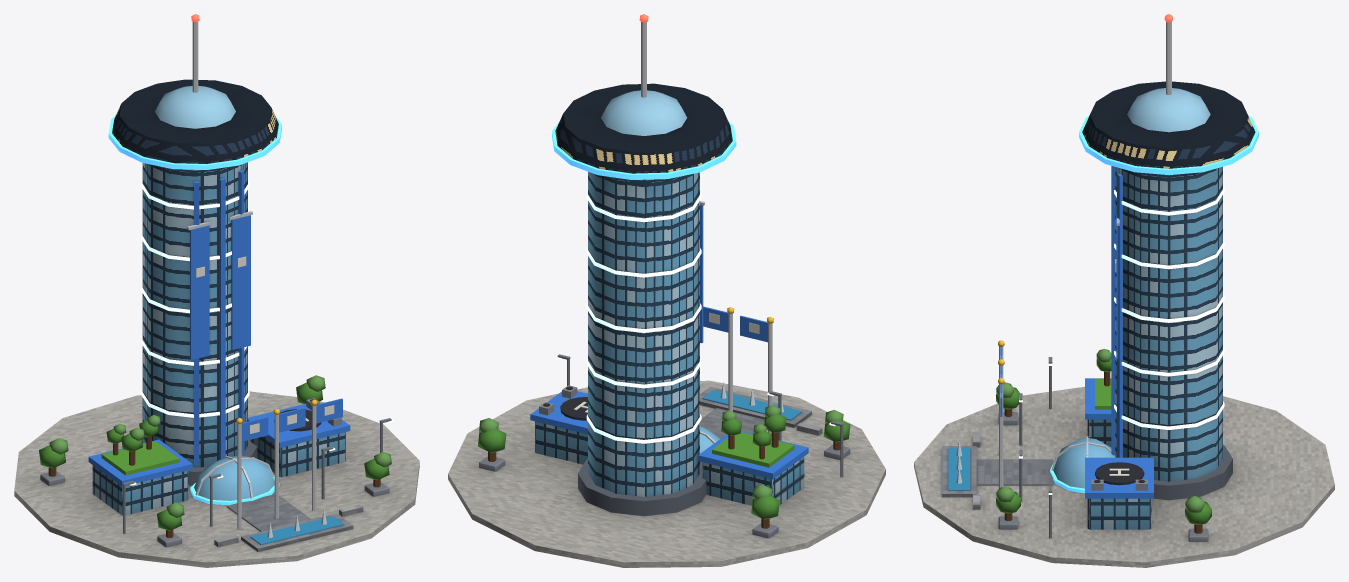
File: residence_dl7_blue.glb
3 renders of one model, left to right at view 1: azimuth 30°, elevation 25°; view 2: azimuth 150°, elevation 25°; view 3: azimuth 270°, elevation 25°, orthographic. The views are drawn at different scales.
Parts seen in each view (by area): view 1: residence_dl7_blue; view 2: residence_dl7_blue; view 3: residence_dl7_blue.
Boxes of the visible parts, box(x1,y1,x2,y2) form: residence_dl7_blue: box(14, 14, 419, 567); residence_dl7_blue: box(448, 14, 885, 567); residence_dl7_blue: box(914, 14, 1334, 567).
Bounding box in the file's own units: 1.71 × 2.08 × 1.71.
Materials: 5 (1 with a texture image).
